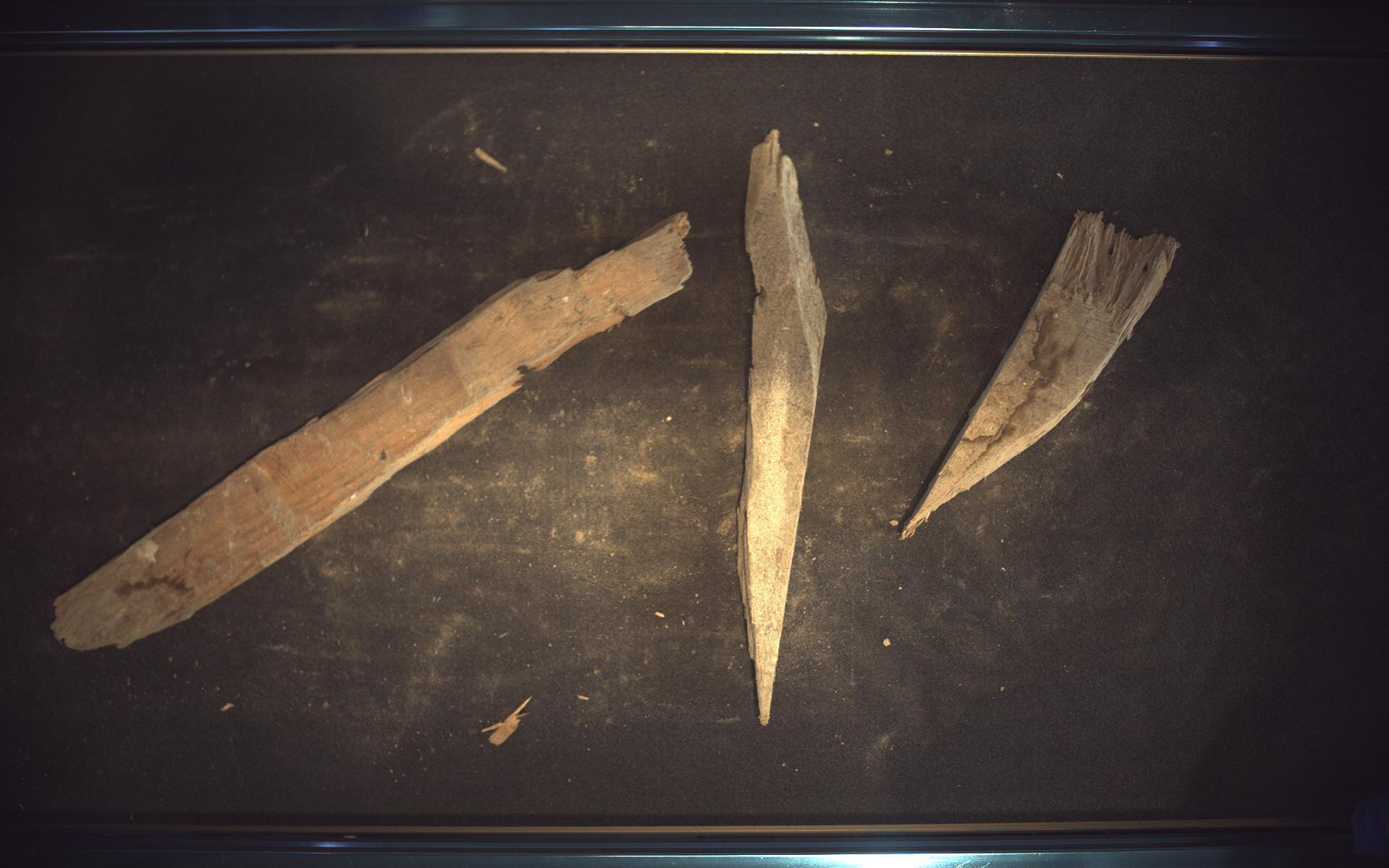wood: (52, 212, 693, 651), (902, 210, 1181, 540), (739, 129, 828, 726)
